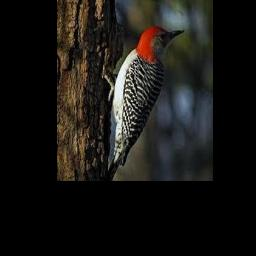Woodpecker: (105, 25, 184, 181)
